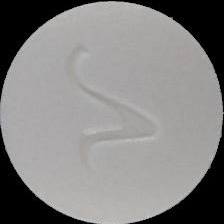68151-4021: (0, 0, 224, 224)
